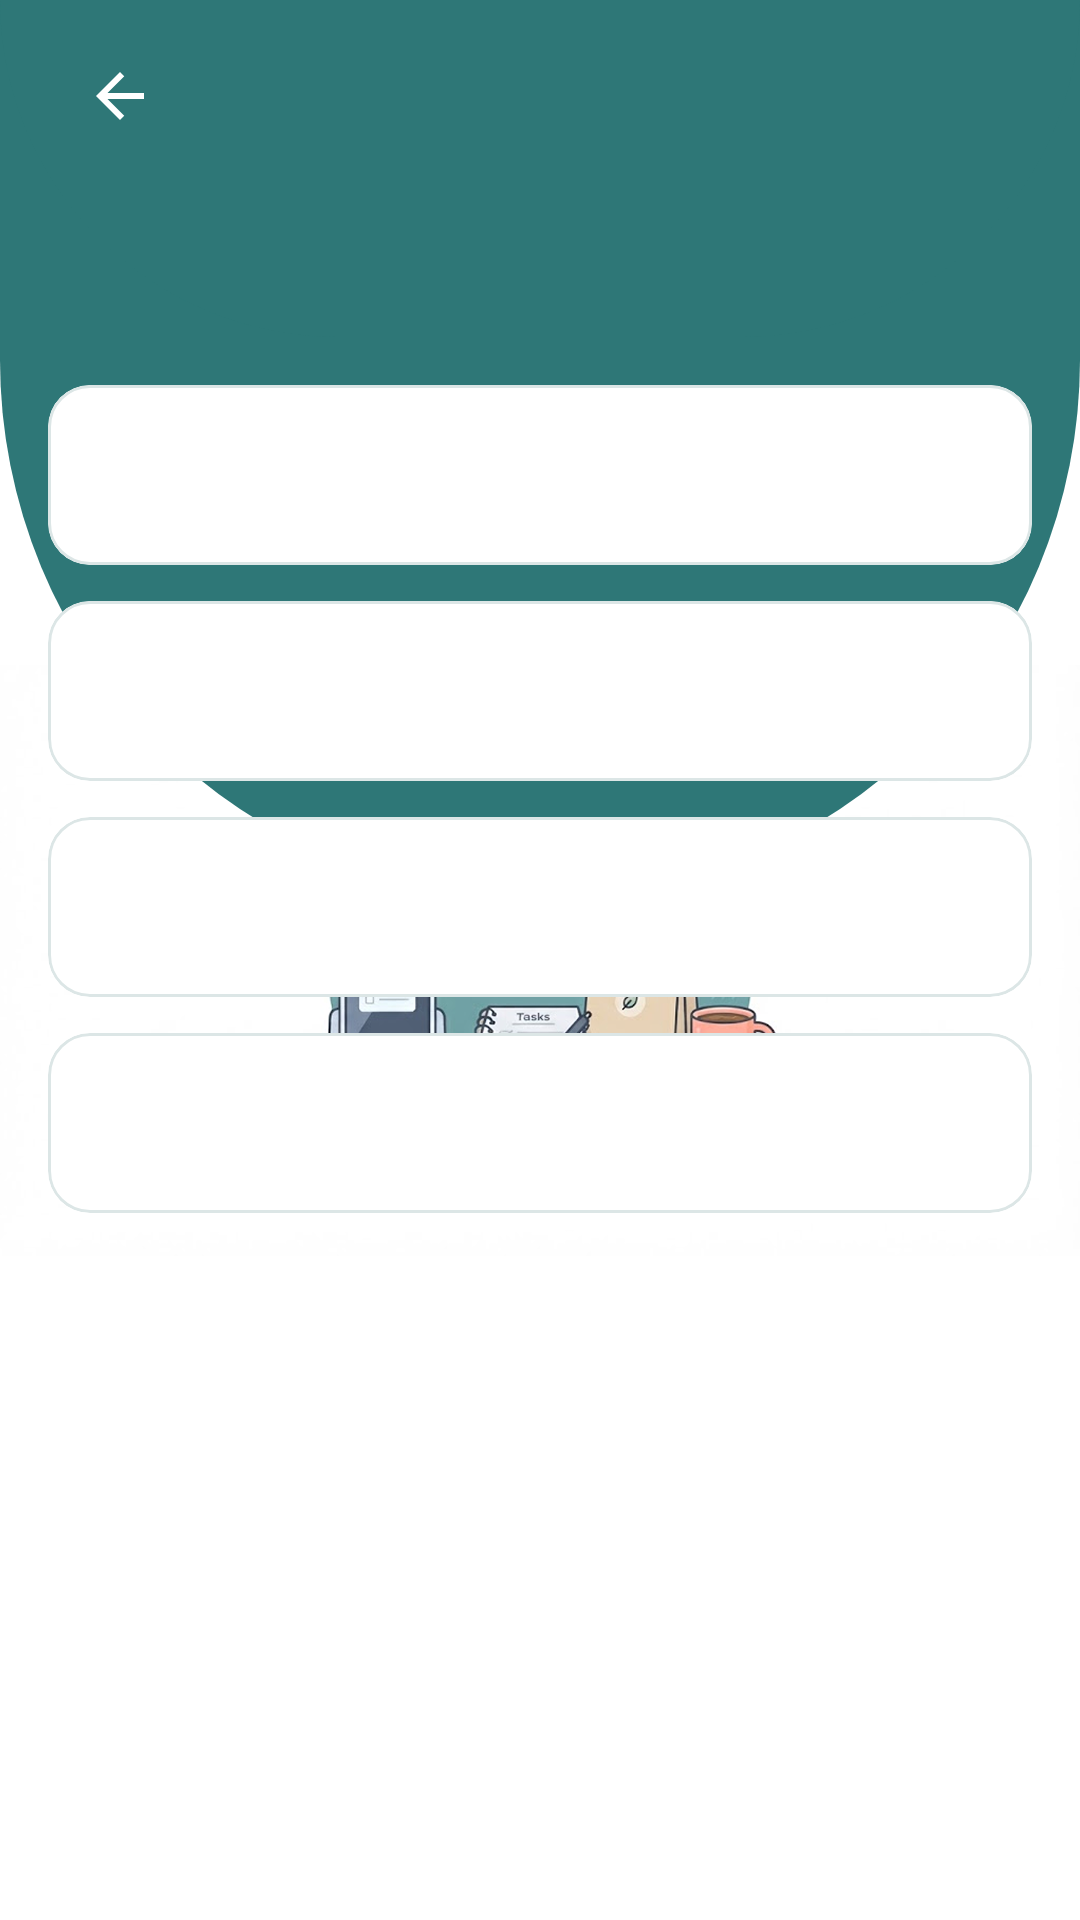

Where icons sit on this 1080x1920 app screen, as BBox(x1, y1, x2, y2):
Back: BBox(96, 72, 144, 120)
